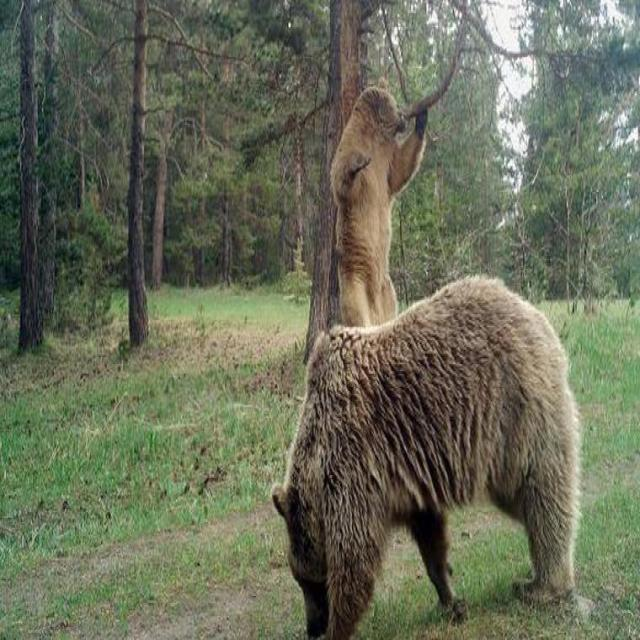Bear: (271, 277, 584, 640), (337, 87, 432, 324)
